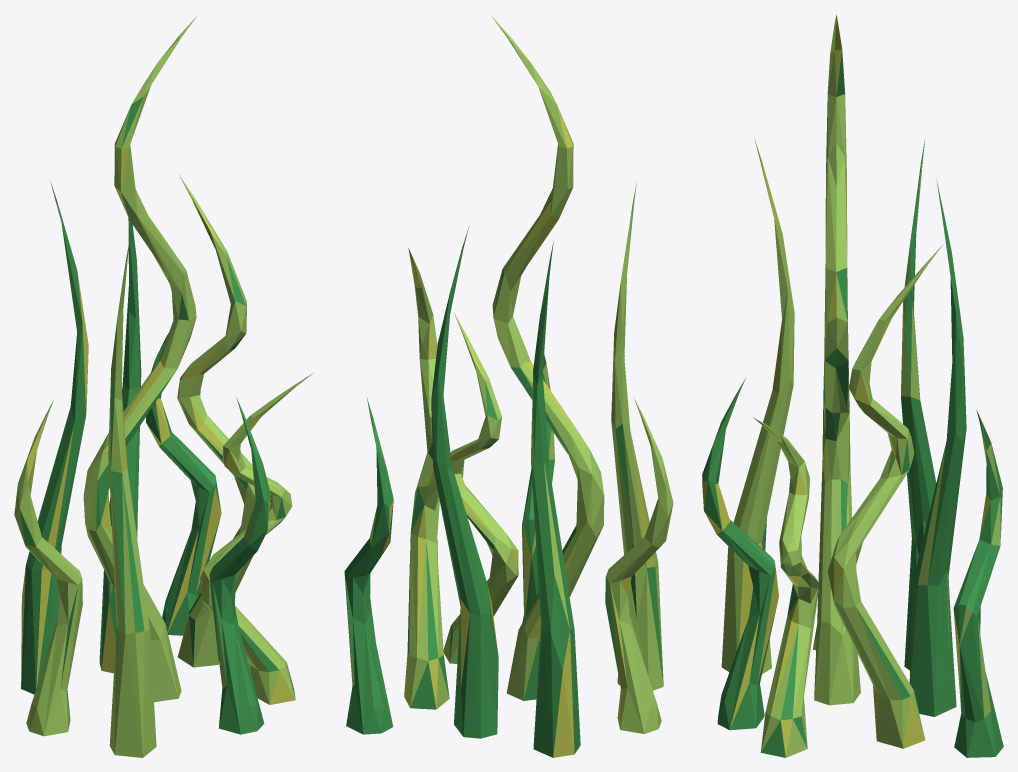
Rendered from grass1.fbx.
3 views of the same model, side by side, from view 1: azimuth 30°, elevation 25°; view 2: azimuth 150°, elevation 25°; view 3: azimuth 270°, elevation 25° (orthographic). The views are drawn at different scales.
Parts seen in each view (by area): view 1: Grass1; view 2: Grass1; view 3: Grass1.
Part boxes in pixels (left/top/right/bottom): Grass1: left=14, top=15, right=313, bottom=757; Grass1: left=344, top=16, right=673, bottom=757; Grass1: left=702, top=14, right=1003, bottom=757.
Size of the model in its own units: 0.6524 by 1.6 by 0.6173.
